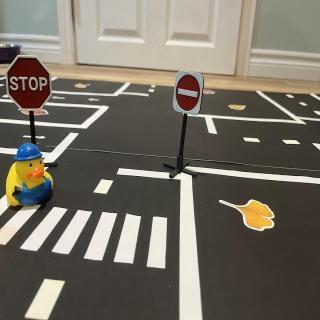duck_specialty: (7, 145, 55, 210)
road_crosswalk: (1, 193, 171, 273)
road_oneway: (87, 96, 105, 104), (51, 97, 71, 101)
sign_noentry: (174, 73, 206, 118)
sign_stop: (8, 56, 52, 110)
